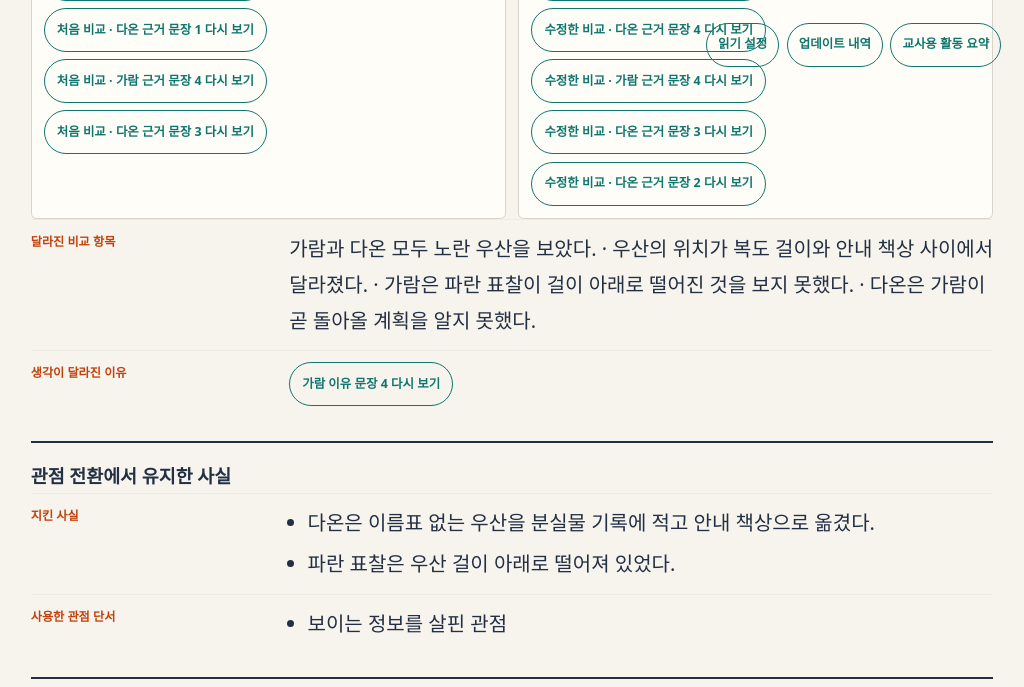
Test: AppShell › revisits the report at the requested sentence
(page scrolled)
Click the button "가람 이유 문장 4 다시 보기". click: (371, 384)
box: x1=289 y1=362 x2=453 y2=406
(page scrolled)
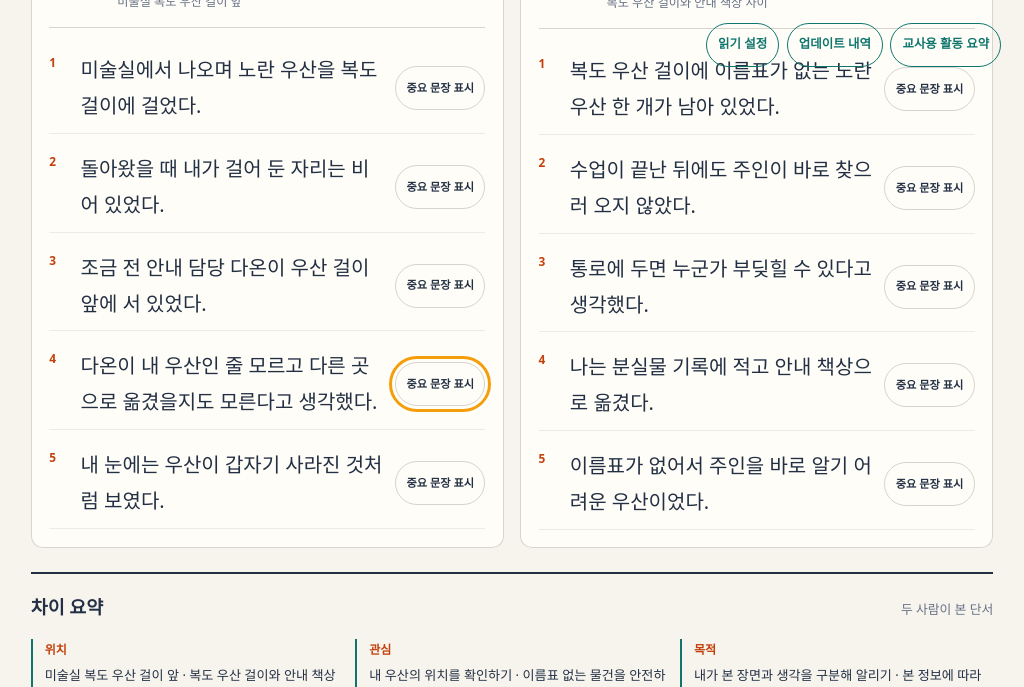
expect the element showing "4 다온이 내 우산인 줄 모르고 다른 곳으로 옮겼을지도 모른다고 생각했다. 중요 문장 표시" is shown: met, box x1=49 y1=348 x2=485 y2=420
